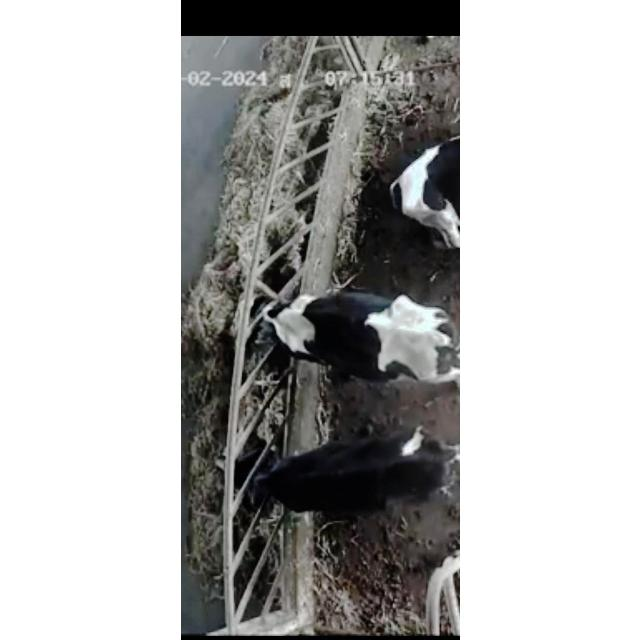eat: (202, 272, 344, 364), (192, 434, 318, 508)
